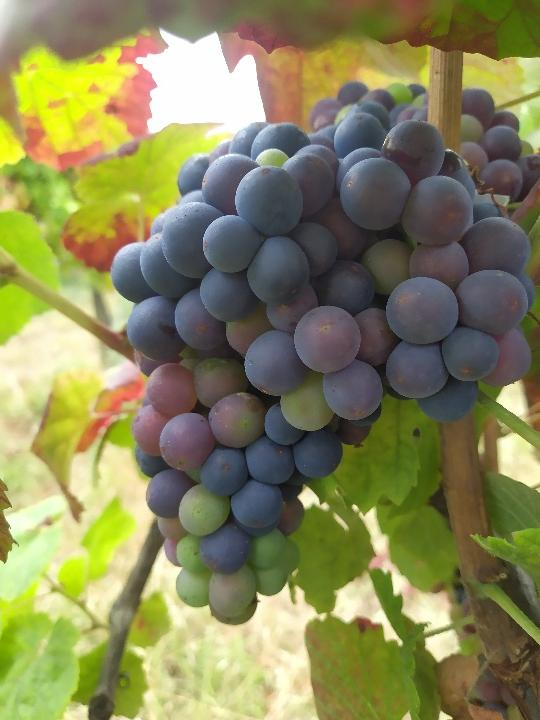grape: (106, 108, 538, 628)
